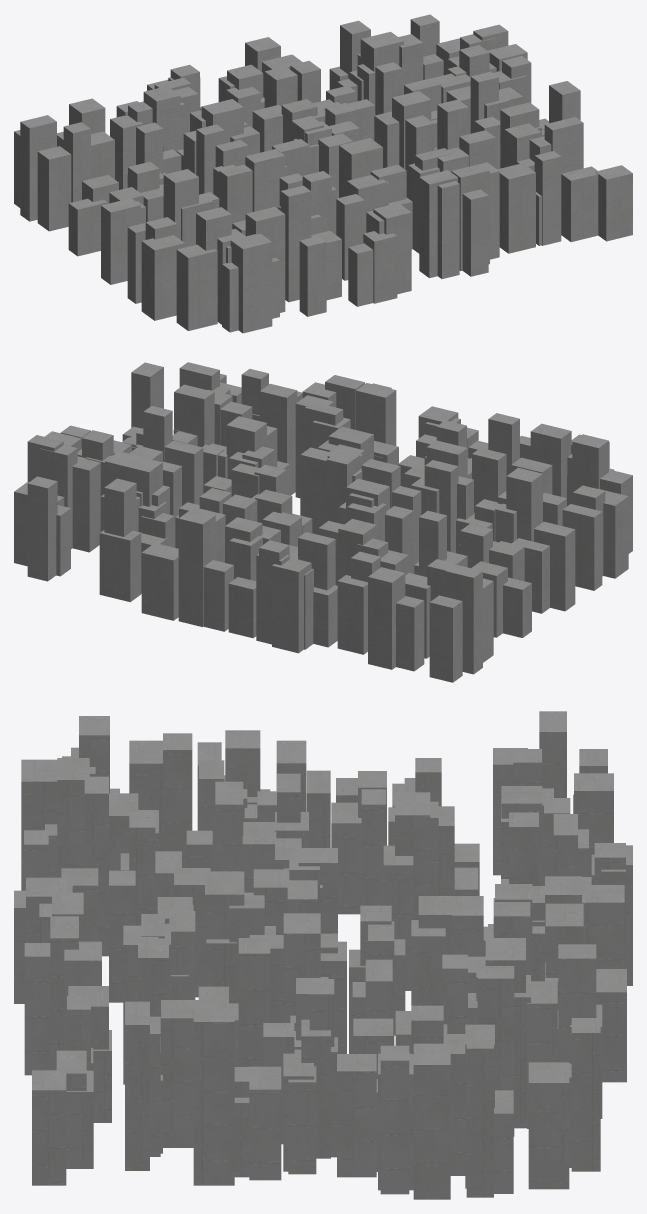
File: BillsOriginal.obj
3 renders of one model, top to bottom at view 1: azimuth 30°, elevation 25°; view 2: azimuth 150°, elevation 25°; view 3: azimuth 270°, elevation 25°, orthographic. The views are drawn at different scales.
Visible parts, largest first — view 1: BillsOriginal.001; view 2: BillsOriginal.001; view 3: BillsOriginal.001.
Part boxes in pixels (x1,y1,x2,y2): BillsOriginal.001: (14, 14, 632, 333); BillsOriginal.001: (14, 362, 632, 682); BillsOriginal.001: (14, 711, 632, 1199).
Size of the model in its own units: 370 by 81.93 by 277.
